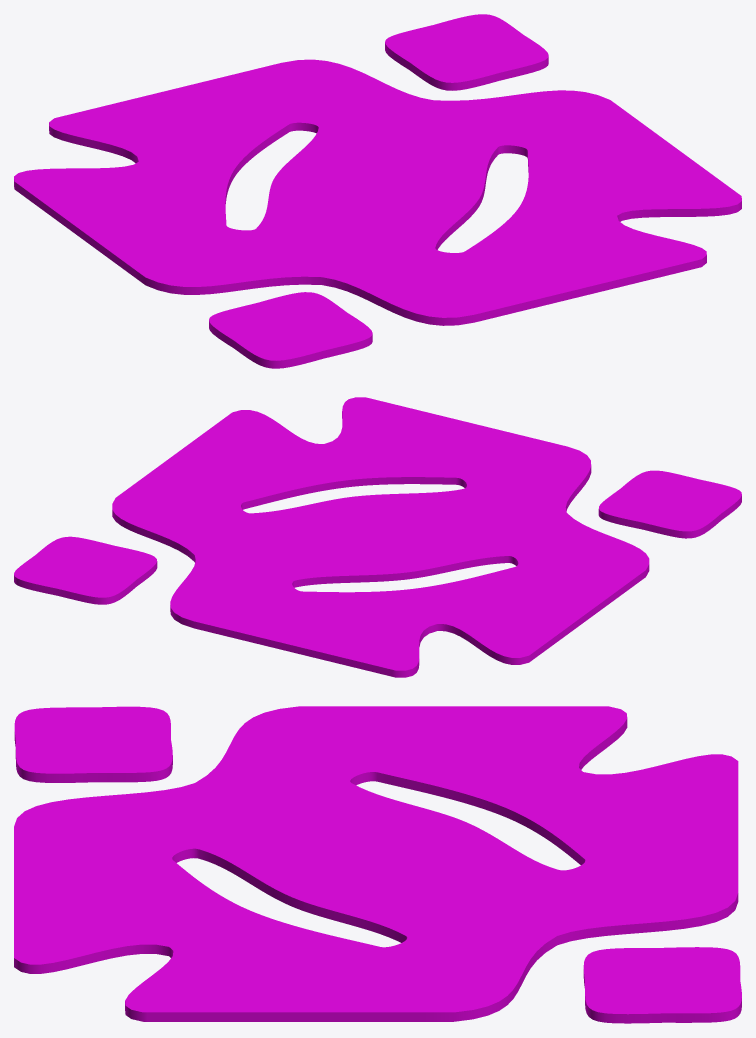
The model's file is land.fbx.
3 views of the same model, one above another, from view 1: azimuth 30°, elevation 25°; view 2: azimuth 150°, elevation 25°; view 3: azimuth 270°, elevation 25° (orthographic). The views are drawn at different scales.
Visible parts, largest first — view 1: Curve; view 2: Curve; view 3: Curve.
Part boxes in pixels (box(x1,y1,x2,y2)): Curve: box(14, 14, 741, 368); Curve: box(14, 397, 741, 677); Curve: box(14, 706, 741, 1023).
Size of the model in its own units: 141 by 2 by 141.
